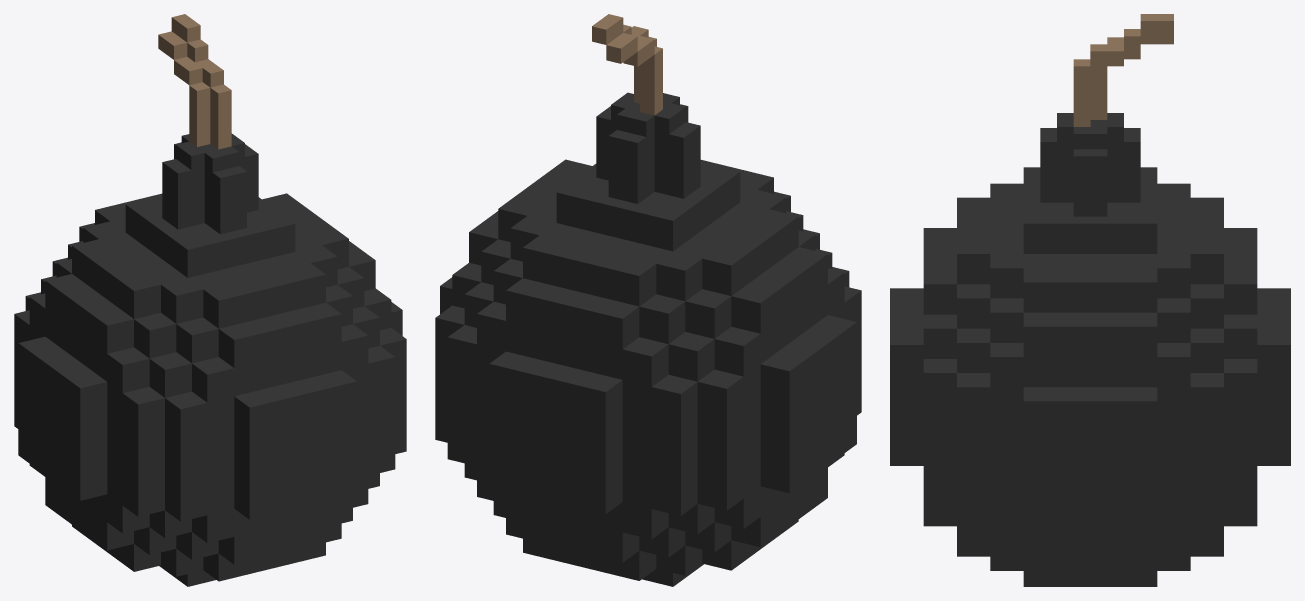
The model's file is bomb_carry.obj.
3 views of the same model, side by side, from view 1: azimuth 30°, elevation 25°; view 2: azimuth 150°, elevation 25°; view 3: azimuth 270°, elevation 25° (orthographic). The views are drawn at different scales.
Parts seen in each view (by area): view 1: bomb_carry; view 2: bomb_carry; view 3: bomb_carry.
Part boxes in pixels (x1,y1,x2,y2): bomb_carry: [14, 14, 406, 586]; bomb_carry: [435, 14, 861, 586]; bomb_carry: [890, 14, 1290, 586].
Size of the model in its own units: 24 by 36 by 24.
1 material, 1 textured.
